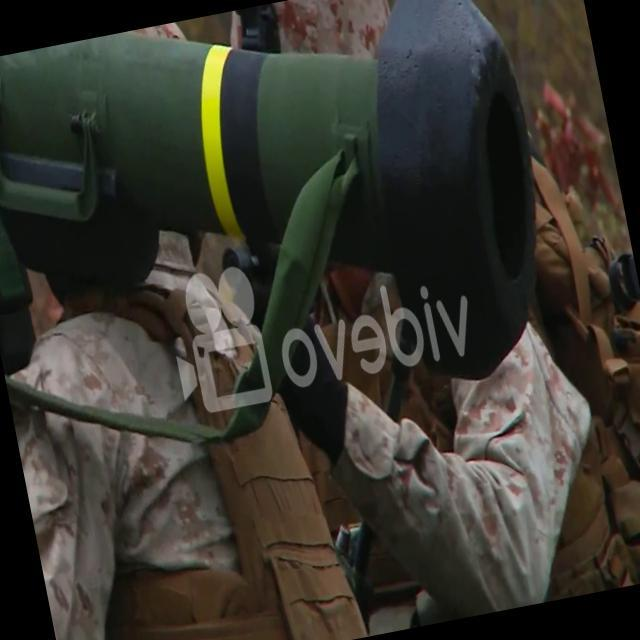rocket: (0, 0, 569, 456)
